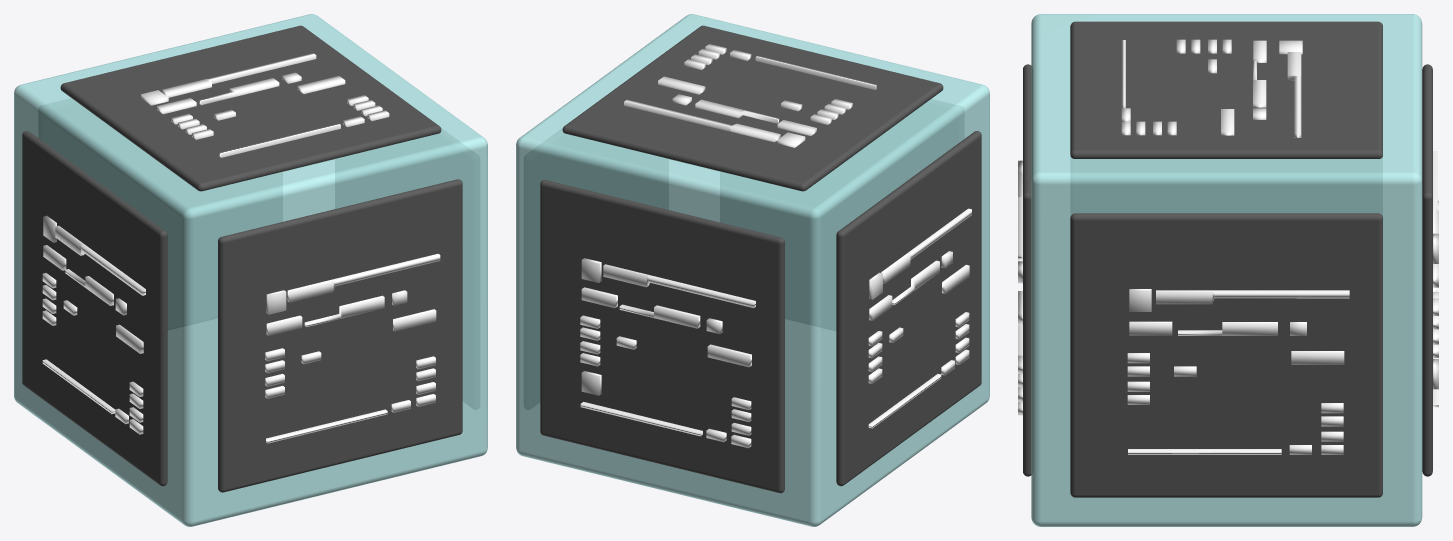
File: LightBlue_Bitsharm.glb
The picture shows the model from 3 angles, left to right: view 1: azimuth 30°, elevation 25°; view 2: azimuth 150°, elevation 25°; view 3: azimuth 270°, elevation 25°; orthographic projection. The views are drawn at different scales.
Visible parts, largest first — view 1: Geom Bitsharm_1textureEach_Whole pCube1, Geom Bitsharm_1textureEach_Whole group3_pCube2, Geom Bitsharm_1textureEach_Whole group6_pCube2, Geom Bitsharm_1textureEach_Whole pCube2_group2, Geom Bitsharm_1textureEach_Whole group3_pCube5, Geom Bitsharm_1textureEach_Whole group2_pCube5, Geom Bitsharm_1textureEach_Whole pCube5_group6, Geom Bitsharm_1textureEach_Whole pCube7_group3, Geom Bitsharm_1textureEach_Whole group2_pCube34, Geom Bitsharm_1textureEach_Whole group3_pCube34, Geom Bitsharm_1textureEach_Whole group2_pCube7, Geom Bitsharm_1textureEach_Whole group3_pCube13 (+2 smaller); view 2: Geom Bitsharm_1textureEach_Whole pCube1, Geom Bitsharm_1textureEach_Whole group5_pCube2, Geom Bitsharm_1textureEach_Whole group6_pCube2, Geom Bitsharm_1textureEach_Whole pCube2_group2, Geom Bitsharm_1textureEach_Whole group5_pCube5, Geom Bitsharm_1textureEach_Whole group2_pCube5, Geom Bitsharm_1textureEach_Whole pCube5_group6, Geom Bitsharm_1textureEach_Whole group5_pCube40, Geom Bitsharm_1textureEach_Whole group5_pCube49, Geom Bitsharm_1textureEach_Whole group2_pCube34, Geom Bitsharm_1textureEach_Whole group2_pCube7, Geom Bitsharm_1textureEach_Whole group5_pCube42 (+2 smaller); view 3: Geom Bitsharm_1textureEach_Whole group4_pCube2, Geom Bitsharm_1textureEach_Whole pCube1, Geom Bitsharm_1textureEach_Whole pCube2_group2, Geom Bitsharm_1textureEach_Whole group5_pCube2, Geom Bitsharm_1textureEach_Whole group3_pCube2, Geom Bitsharm_1textureEach_Whole pCube5_group4, Geom Bitsharm_1textureEach_Whole group4_pCube7, Geom Bitsharm_1textureEach_Whole group4_pCube34, Geom Bitsharm_1textureEach_Whole group2_pCube5, Geom Bitsharm_1textureEach_Whole group4_pCube13, Geom Bitsharm_1textureEach_Whole group4_pCube6, Geom Bitsharm_1textureEach_Whole group4_pCube3.
Boxes of the visible parts, x1=… form: Geom Bitsharm_1textureEach_Whole pCube1: x1=14, y1=14, x2=487, y2=526; Geom Bitsharm_1textureEach_Whole group3_pCube2: x1=218, y1=179, x2=462, y2=492; Geom Bitsharm_1textureEach_Whole group6_pCube2: x1=22, y1=131, x2=167, y2=486; Geom Bitsharm_1textureEach_Whole pCube2_group2: x1=60, y1=25, x2=441, y2=191; Geom Bitsharm_1textureEach_Whole group3_pCube5: x1=287, y1=253, x2=440, y2=302; Geom Bitsharm_1textureEach_Whole group2_pCube5: x1=162, y1=53, x2=316, y2=97; Geom Bitsharm_1textureEach_Whole pCube5_group6: x1=55, y1=225, x2=145, y2=295; Geom Bitsharm_1textureEach_Whole pCube7_group3: x1=304, y1=295, x2=384, y2=326; Geom Bitsharm_1textureEach_Whole group2_pCube34: x1=219, y1=123, x2=340, y2=157; Geom Bitsharm_1textureEach_Whole group3_pCube34: x1=266, y1=409, x2=387, y2=443; Geom Bitsharm_1textureEach_Whole group2_pCube7: x1=199, y1=78, x2=279, y2=105; Geom Bitsharm_1textureEach_Whole group3_pCube13: x1=393, y1=309, x2=436, y2=331; Geom Bitsharm_1textureEach_Whole pCube1: x1=516, y1=14, x2=989, y2=526; Geom Bitsharm_1textureEach_Whole group5_pCube2: x1=540, y1=180, x2=784, y2=493; Geom Bitsharm_1textureEach_Whole group6_pCube2: x1=836, y1=131, x2=981, y2=486; Geom Bitsharm_1textureEach_Whole pCube2_group2: x1=562, y1=25, x2=943, y2=191; Geom Bitsharm_1textureEach_Whole group5_pCube5: x1=603, y1=264, x2=755, y2=307; Geom Bitsharm_1textureEach_Whole group2_pCube5: x1=624, y1=99, x2=780, y2=142; Geom Bitsharm_1textureEach_Whole pCube5_group6: x1=881, y1=208, x2=971, y2=283; Geom Bitsharm_1textureEach_Whole group5_pCube40: x1=619, y1=304, x2=700, y2=328; Geom Bitsharm_1textureEach_Whole group5_pCube49: x1=580, y1=402, x2=702, y2=436; Geom Bitsharm_1textureEach_Whole group2_pCube34: x1=755, y1=55, x2=876, y2=89; Geom Bitsharm_1textureEach_Whole group2_pCube7: x1=695, y1=99, x2=779, y2=123; Geom Bitsharm_1textureEach_Whole group5_pCube42: x1=707, y1=344, x2=751, y2=367; Geom Bitsharm_1textureEach_Whole group4_pCube2: x1=1070, y1=213, x2=1382, y2=497; Geom Bitsharm_1textureEach_Whole pCube1: x1=1031, y1=14, x2=1422, y2=526; Geom Bitsharm_1textureEach_Whole pCube2_group2: x1=1070, y1=21, x2=1382, y2=158; Geom Bitsharm_1textureEach_Whole group5_pCube2: x1=1422, y1=64, x2=1432, y2=476; Geom Bitsharm_1textureEach_Whole group3_pCube2: x1=1023, y1=64, x2=1031, y2=476; Geom Bitsharm_1textureEach_Whole pCube5_group4: x1=1156, y1=290, x2=1349, y2=304; Geom Bitsharm_1textureEach_Whole group4_pCube7: x1=1178, y1=322, x2=1277, y2=335; Geom Bitsharm_1textureEach_Whole group4_pCube34: x1=1128, y1=449, x2=1281, y2=454; Geom Bitsharm_1textureEach_Whole group2_pCube5: x1=1287, y1=52, x2=1301, y2=137; Geom Bitsharm_1textureEach_Whole group4_pCube13: x1=1291, y1=351, x2=1344, y2=364; Geom Bitsharm_1textureEach_Whole group4_pCube6: x1=1129, y1=321, x2=1172, y2=335; Geom Bitsharm_1textureEach_Whole group4_pCube3: x1=1129, y1=289, x2=1151, y2=311.
Size of the model in its own units: 1.08 by 1.03 by 1.08.
